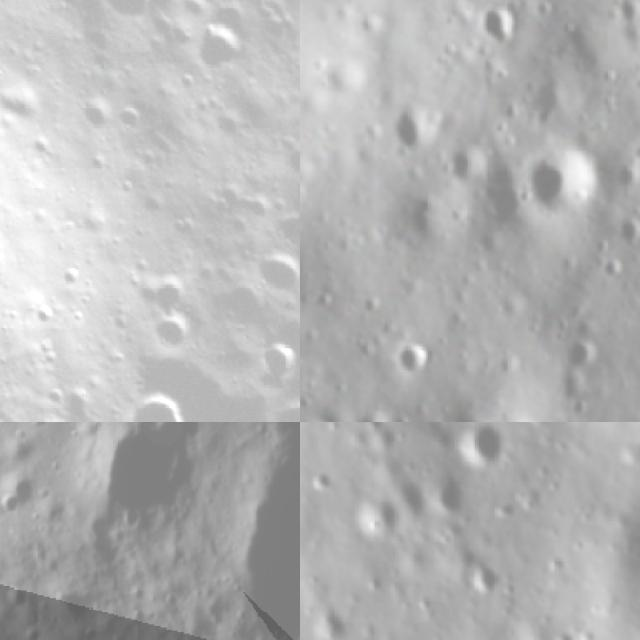crater: (514, 139, 604, 234), (181, 3, 264, 88), (134, 298, 214, 372), (0, 60, 57, 144), (384, 94, 448, 166), (109, 376, 203, 422), (524, 73, 585, 136), (246, 236, 300, 307), (243, 328, 300, 393), (83, 0, 177, 38), (435, 141, 494, 199), (468, 0, 528, 56), (451, 422, 511, 471), (354, 488, 407, 540), (79, 94, 127, 145), (547, 332, 600, 375), (386, 337, 435, 383), (458, 556, 506, 599), (305, 602, 356, 640), (431, 469, 469, 517), (605, 212, 640, 252), (610, 159, 640, 196), (308, 466, 342, 496), (3, 580, 27, 614), (18, 613, 41, 640), (65, 633, 82, 640)
